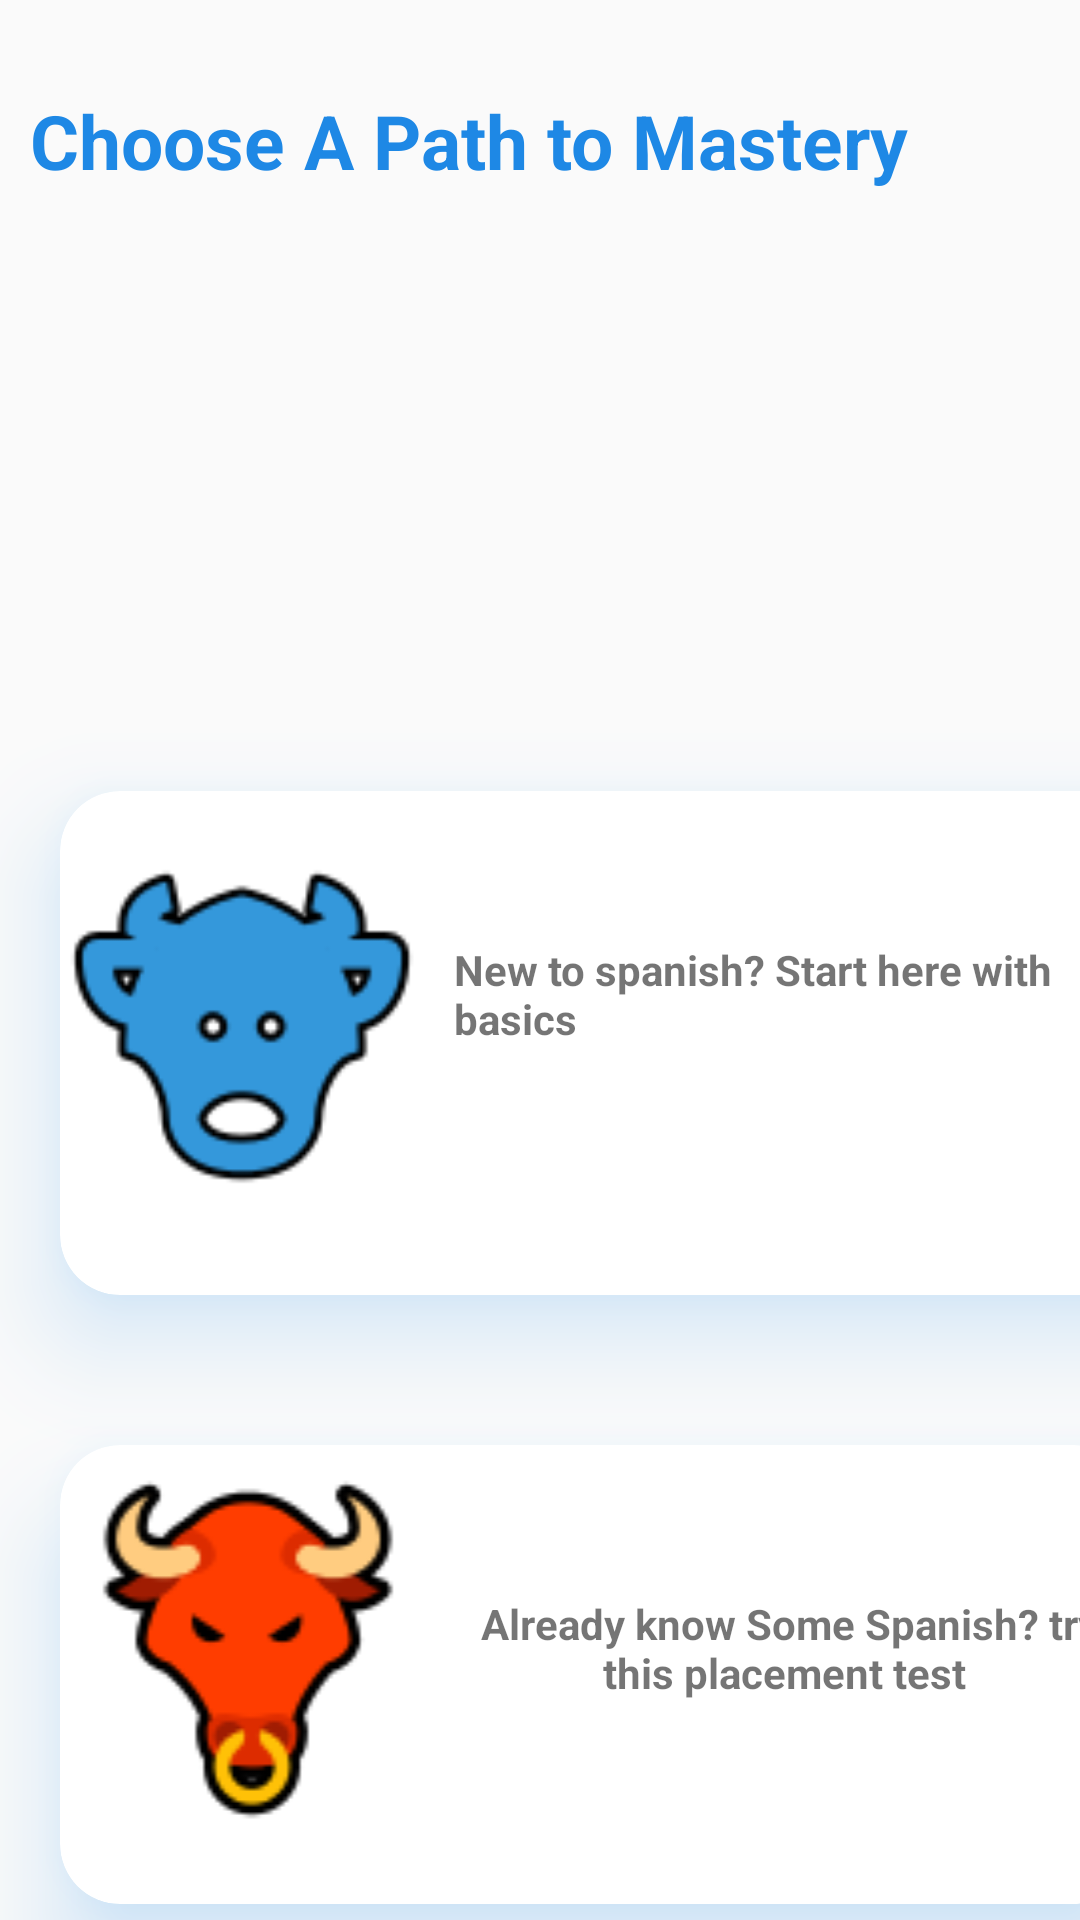

Icon click points for this 1080px x 1920px phone screenshot, format [x,y]:
bulleasy: [242,1027]
bullhard: [248,1650]
